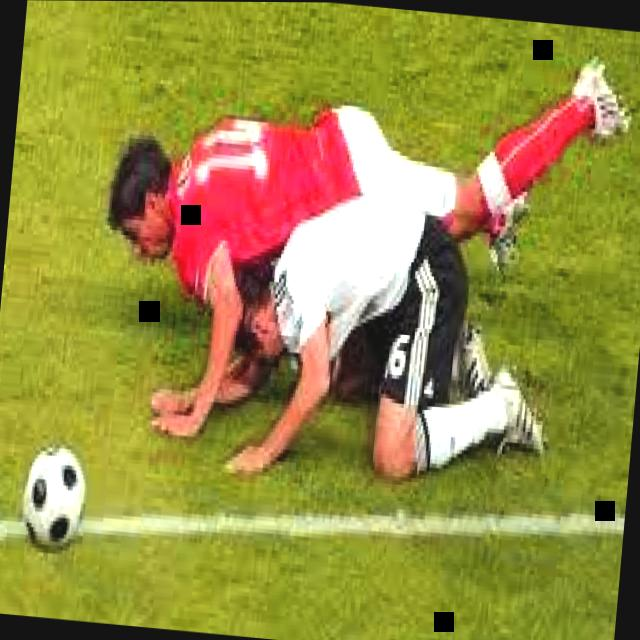Fall-Detected: (112, 29, 594, 454)
